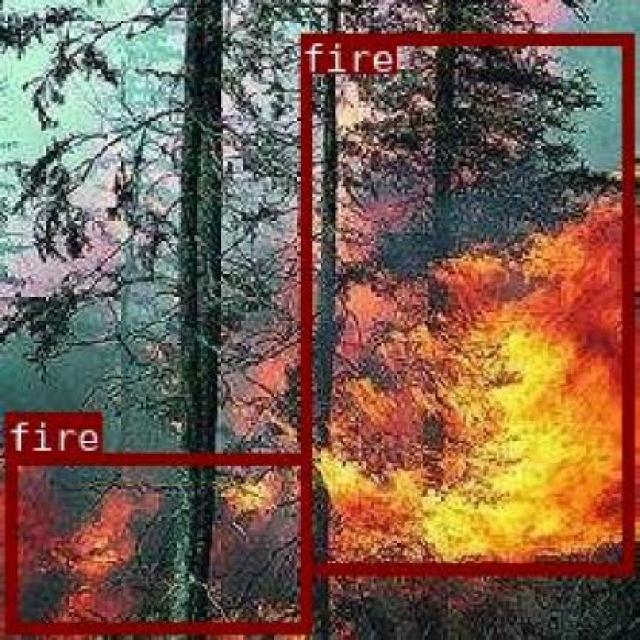Fire: (297, 31, 631, 572), (4, 452, 310, 632)
